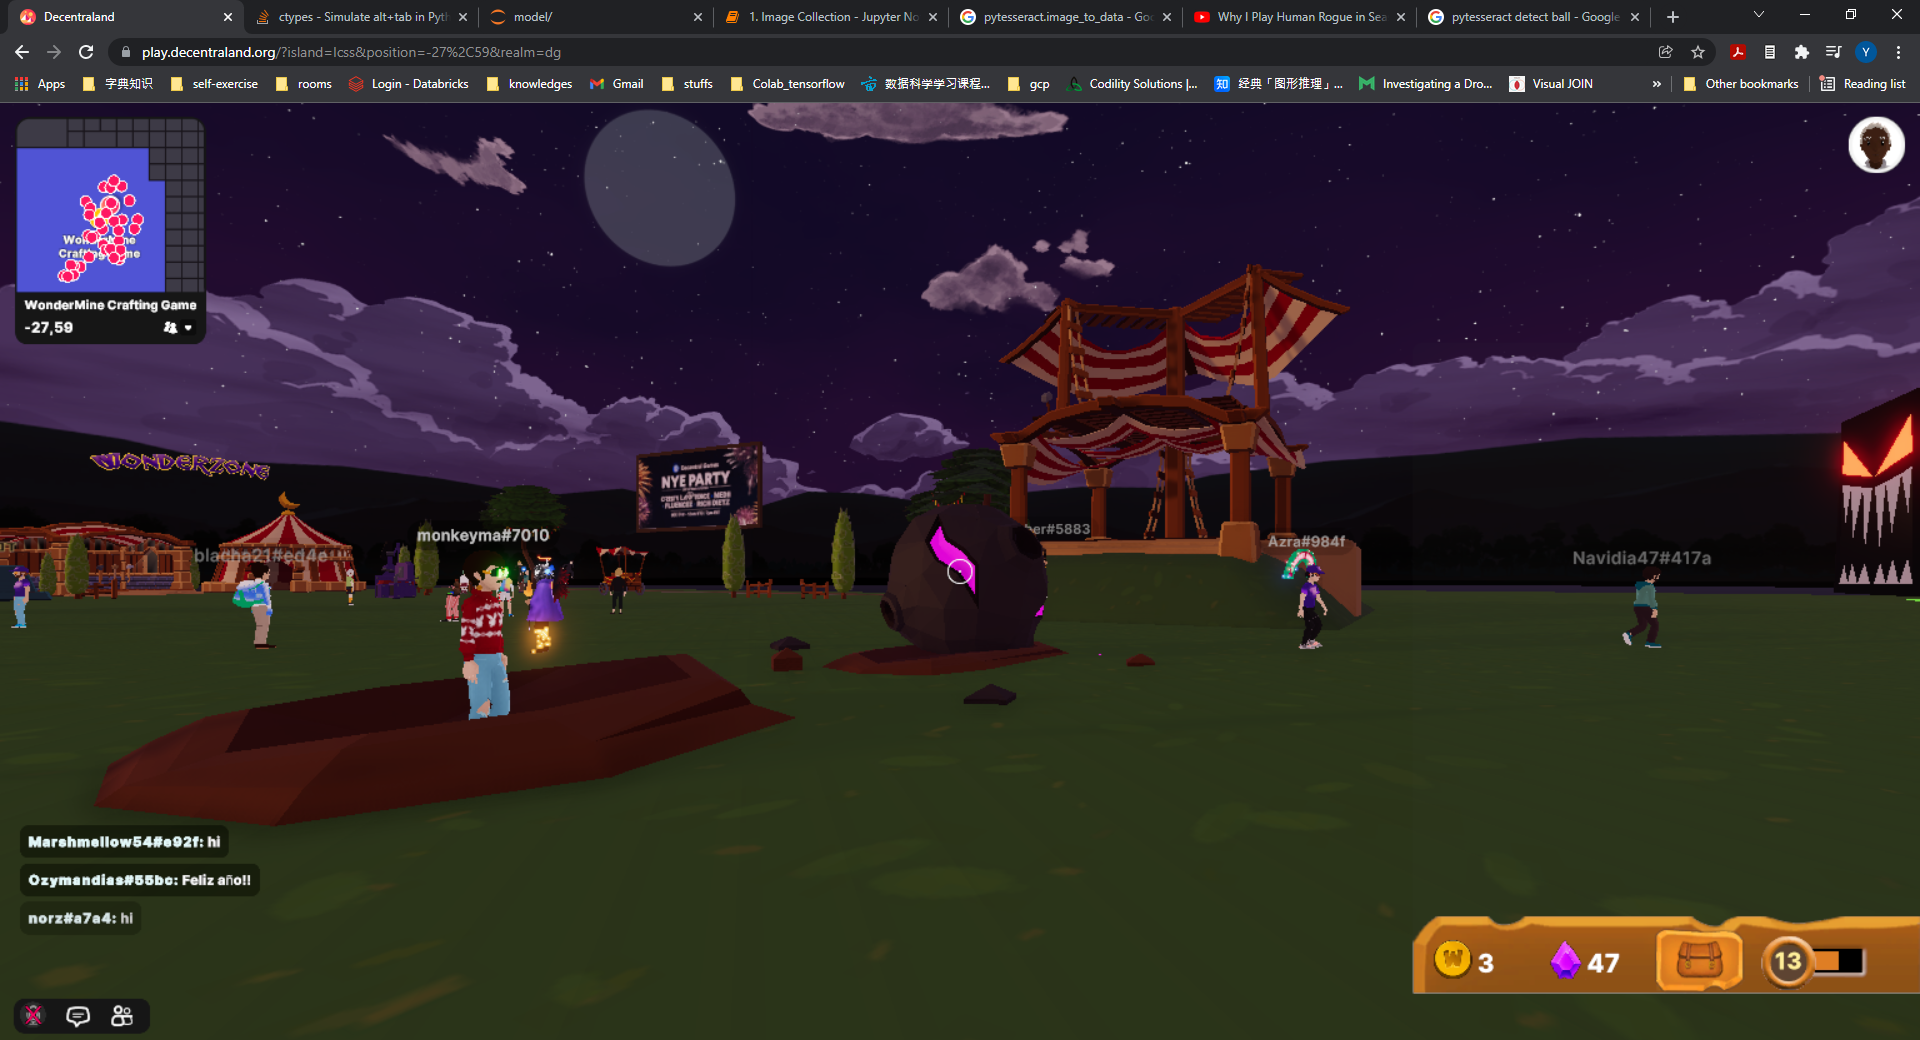black_ball: (849, 494, 1069, 662)
